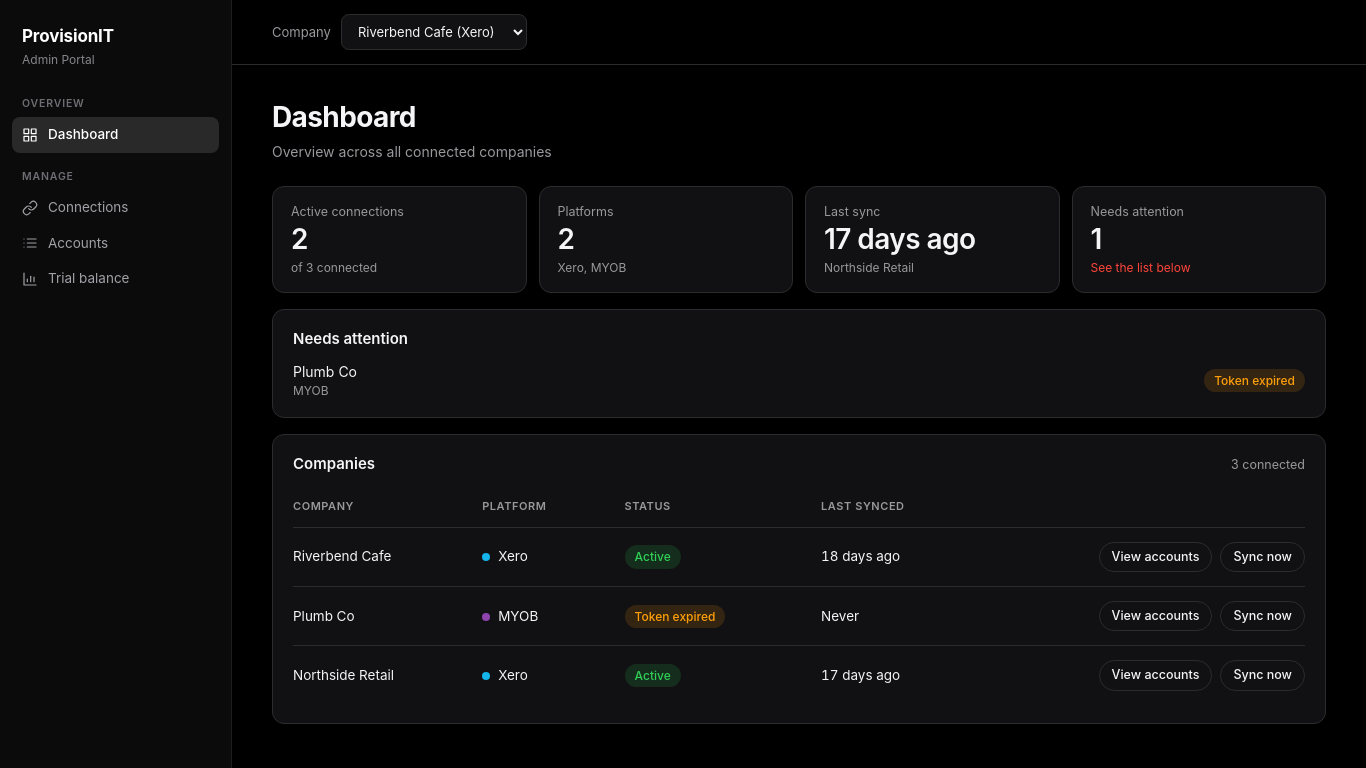
Test case: dashboard › opens a company on the accounts page
Step 1. Click the button "View accounts" in the row of "Never" → (1155, 616), box [1098,601,1212,631]
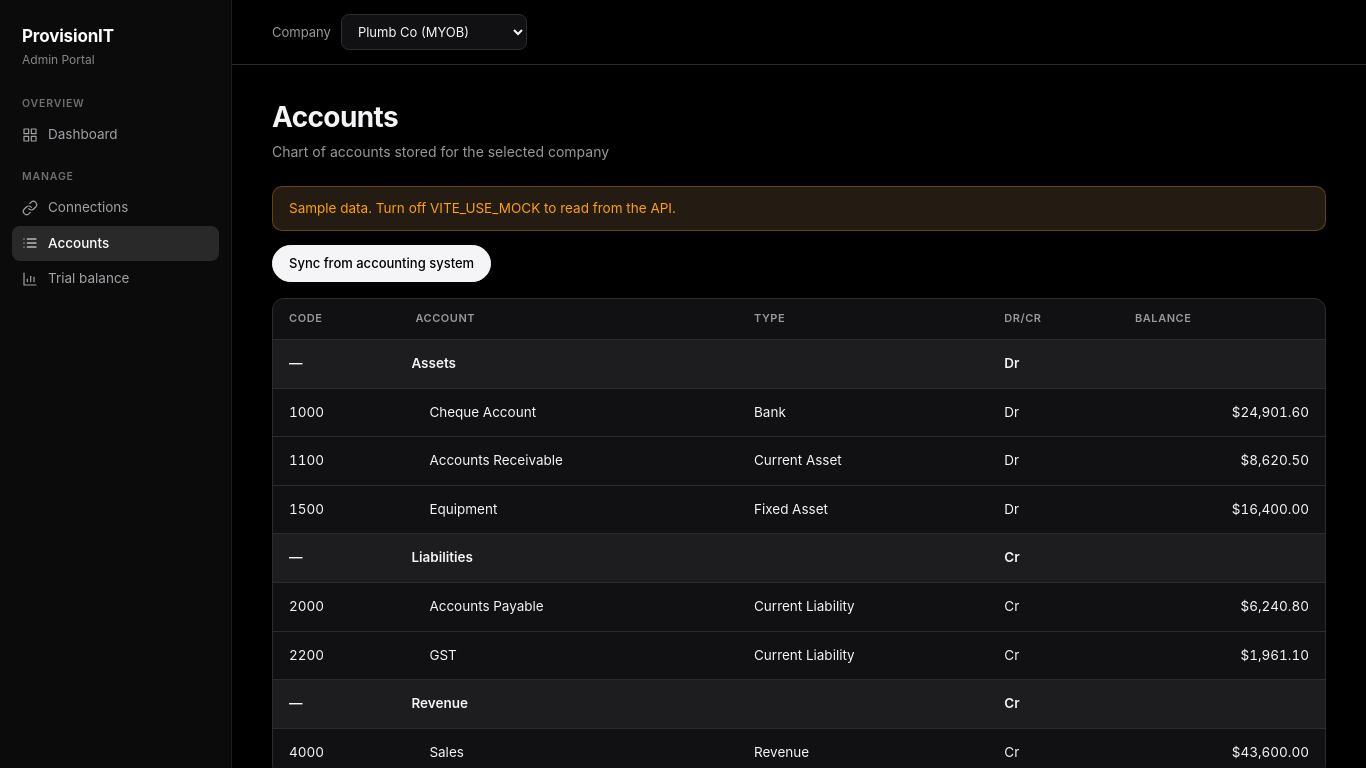
Expected: the heading "Accounts" is shown, [272,100,398,134]
Expected: the dropdown named "Active company" shows "Plumb Co (MYOB)", [341,14,527,50]
